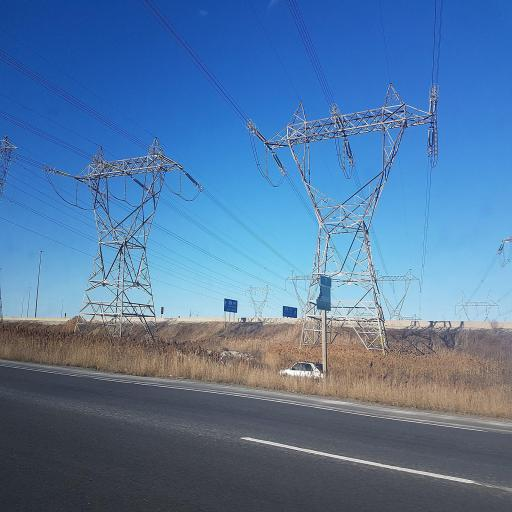wt_5: (261, 87, 437, 358), (74, 141, 176, 336), (366, 262, 421, 331), (455, 283, 498, 326), (245, 278, 271, 325)
